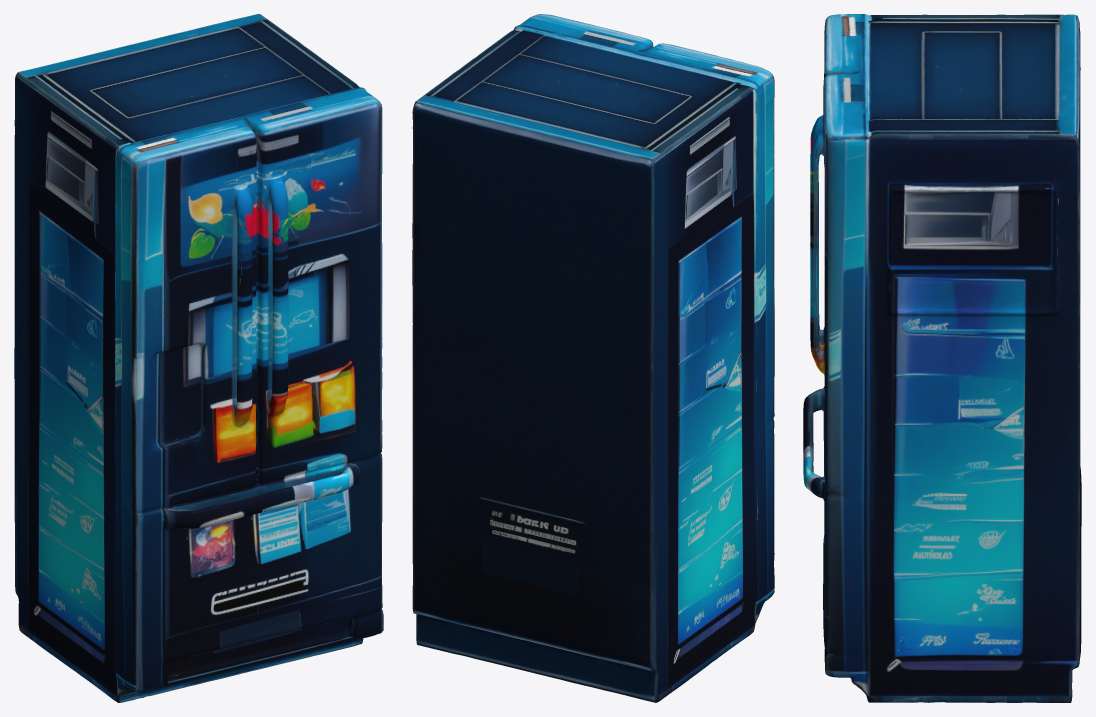
Rendered from fridge.glb.
The picture shows the model from 3 angles, left to right: view 1: azimuth 30°, elevation 25°; view 2: azimuth 150°, elevation 25°; view 3: azimuth 270°, elevation 25°; orthographic projection. The views are drawn at different scales.
Size of the model in its own units: 0.9508 by 2.01 by 0.8878.
Materials: 1 (1 with a texture image).
